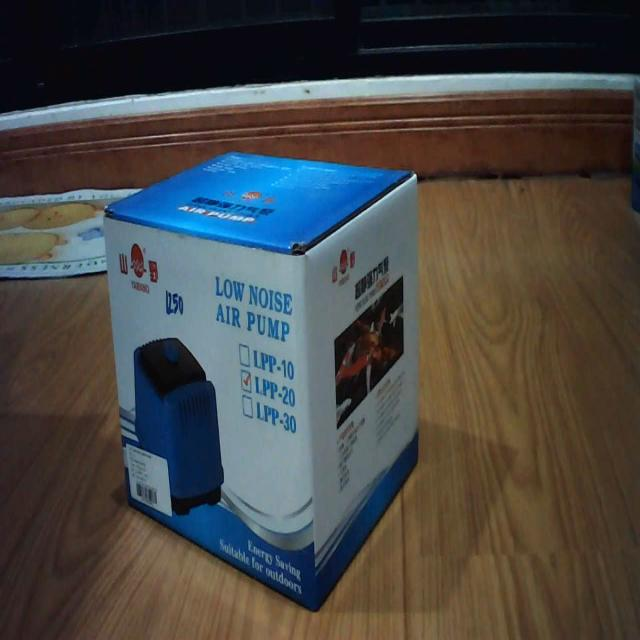YAMANO_LPP_20: (94, 126, 430, 620)
